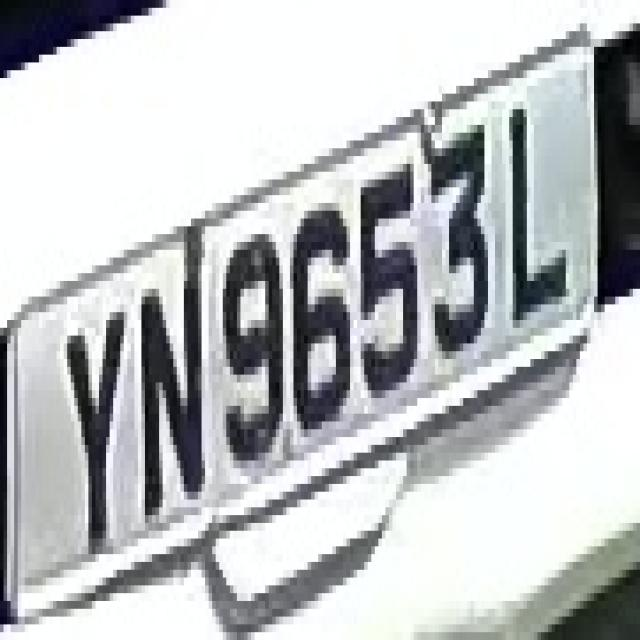3: (424, 110, 499, 390)
5: (353, 133, 428, 406)
6: (283, 180, 361, 452)
9: (216, 211, 294, 484)
L: (502, 86, 580, 328)
N: (131, 234, 212, 523)
Y: (56, 266, 131, 578)
